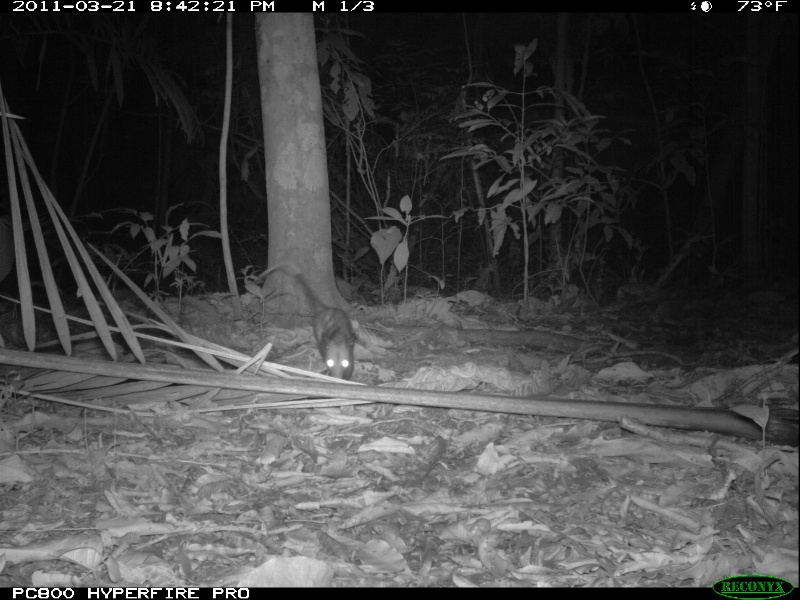opossum: (244, 261, 362, 387)
